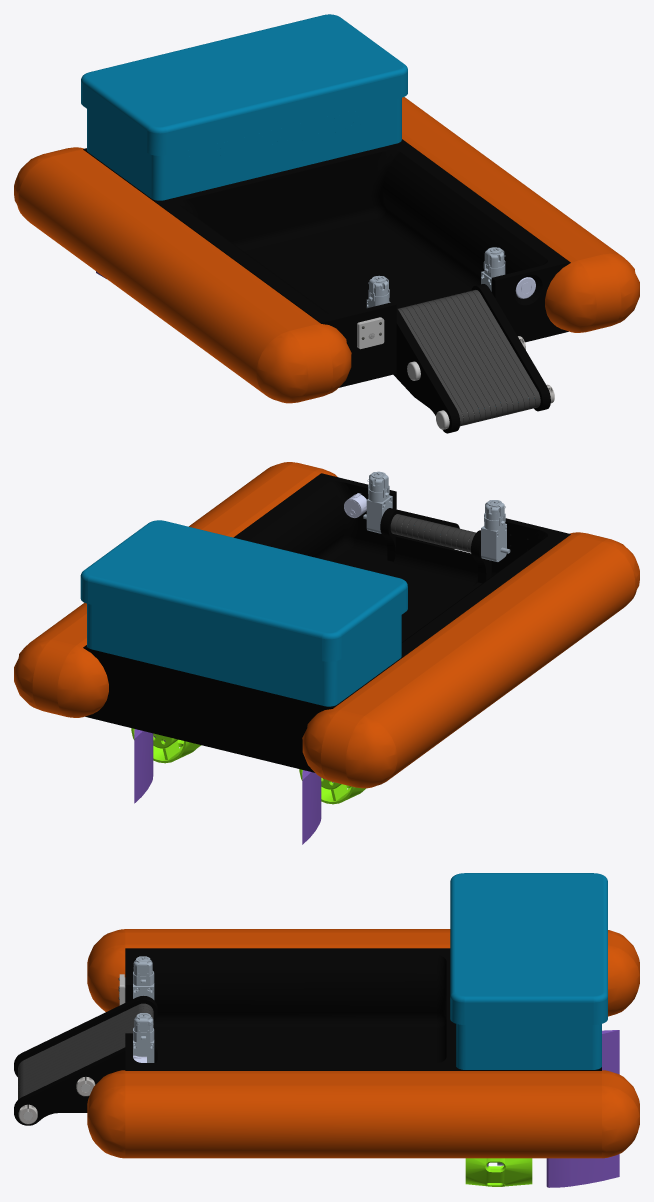
File: smart-river.glb
3 renders of one model, top to bottom at view 1: azimuth 30°, elevation 25°; view 2: azimuth 150°, elevation 25°; view 3: azimuth 270°, elevation 25°, orthographic.
Visible parts, largest first — view 1: SR_P_Buoy (×2), SR_P_MainBase, SR_P_ElectricalBoxCap, SR_P_ElectricalBox, Synchronous Belt1 (×14), SR_P_RollerBracket (×2), SR_P_CamHousing; view 2: SR_P_Buoy (×2), SR_P_MainBase, SR_P_ElectricalBoxCap, SR_P_ElectricalBox, SR_P_Rudder (×2), Underwater Thruster Brushless Motor 4 Bla (×2), SR_P_RollerBracket (×2), Part_4, Part_8; view 3: SR_P_Buoy (×2), SR_P_MainBase, SR_P_ElectricalBoxCap, SR_P_ElectricalBox, SR_P_RollerBracket (×2), SR_P_Rudder (×2), Underwater Thruster Brushless Motor 4 Bla, Synchronous Belt1 (×3), Part_8, Part_4.
Part boxes in pixels (x1,y1,x2,y2): SR_P_Buoy (×2): (14,97,639,403); SR_P_MainBase: (83,139,570,387); SR_P_ElectricalBoxCap: (81,14,407,155); SR_P_ElectricalBox: (87,97,401,200); Synchronous Belt1 (×14): (399,290,540,425); SR_P_RollerBracket (×2): (393,284,550,433); SR_P_CamHousing: (357,317,384,349); SR_P_Buoy (×2): (14,462,639,788); SR_P_MainBase: (83,473,570,772); SR_P_ElectricalBoxCap: (80,520,407,661); SR_P_ElectricalBox: (87,603,401,706); SR_P_Rudder (×2): (134,729,321,844); Underwater Thruster Brushless Motor 4 Bla (×2): (131,728,366,804); SR_P_RollerBracket (×2): (380,508,491,583); Part_4: (481,516,506,562); Part_8: (366,488,392,533); SR_P_Buoy (×2): (87,929,639,1158); SR_P_MainBase: (125,948,601,1070); SR_P_ElectricalBoxCap: (450,873,607,1024); SR_P_ElectricalBox: (456,1024,601,1069); SR_P_RollerBracket (×2): (14,996,157,1125); SR_P_Rudder (×2): (546,1030,619,1187); Underwater Thruster Brushless Motor 4 Bla: (465,1158,532,1186); Synchronous Belt1 (×3): (18,1003,153,1074); Part_8: (133,1027,154,1062); Part_4: (133,971,154,999).
Size of the model in its own units: 0.4594 by 0.2432 by 0.6563.
